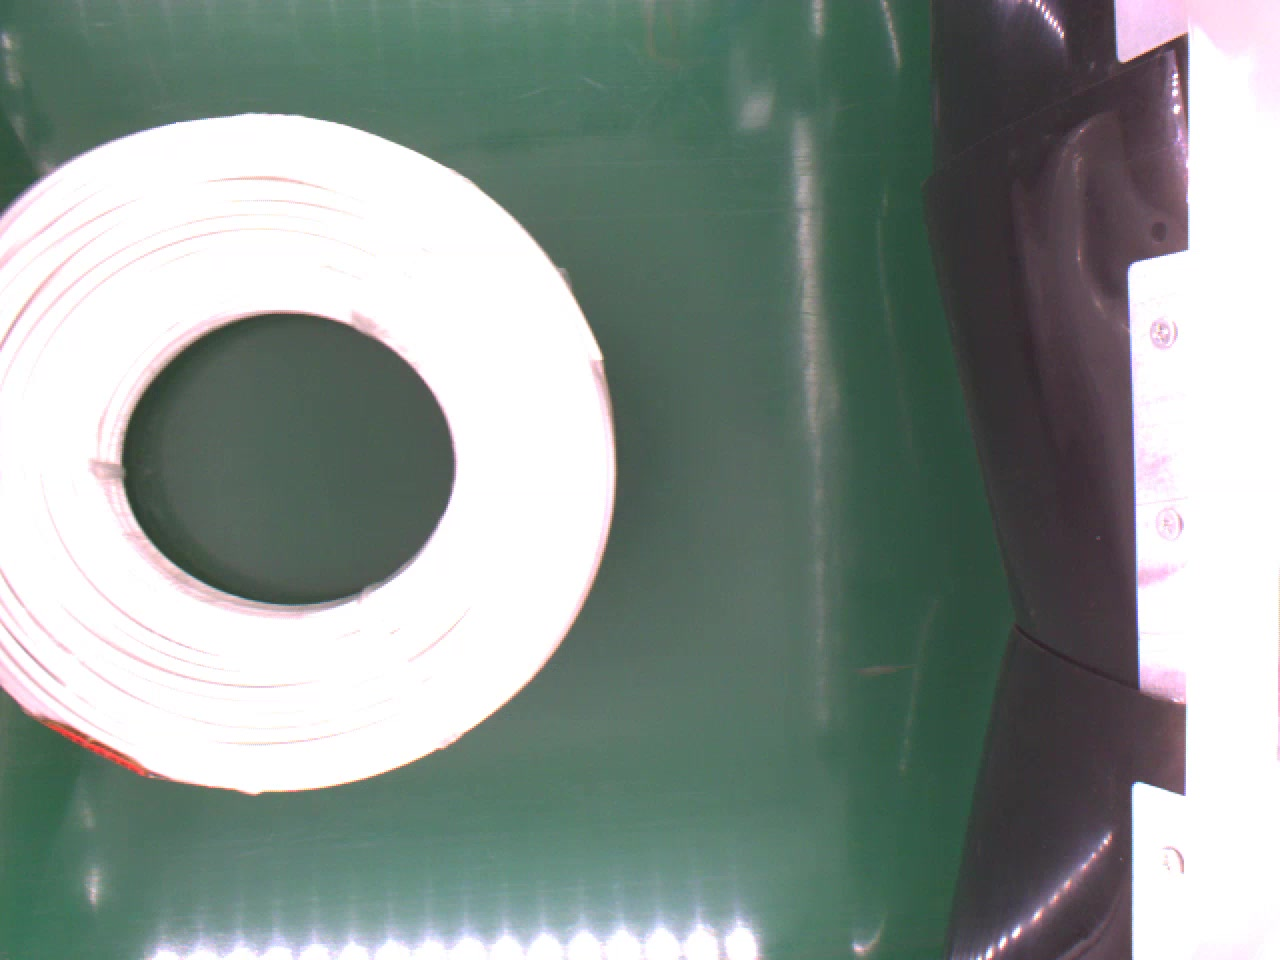white: (0, 106, 615, 797)
